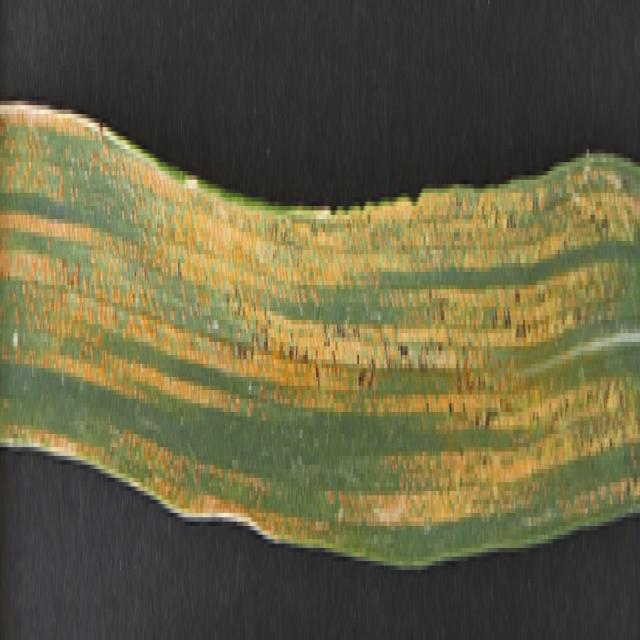leaf rust: (0, 122, 640, 543)
